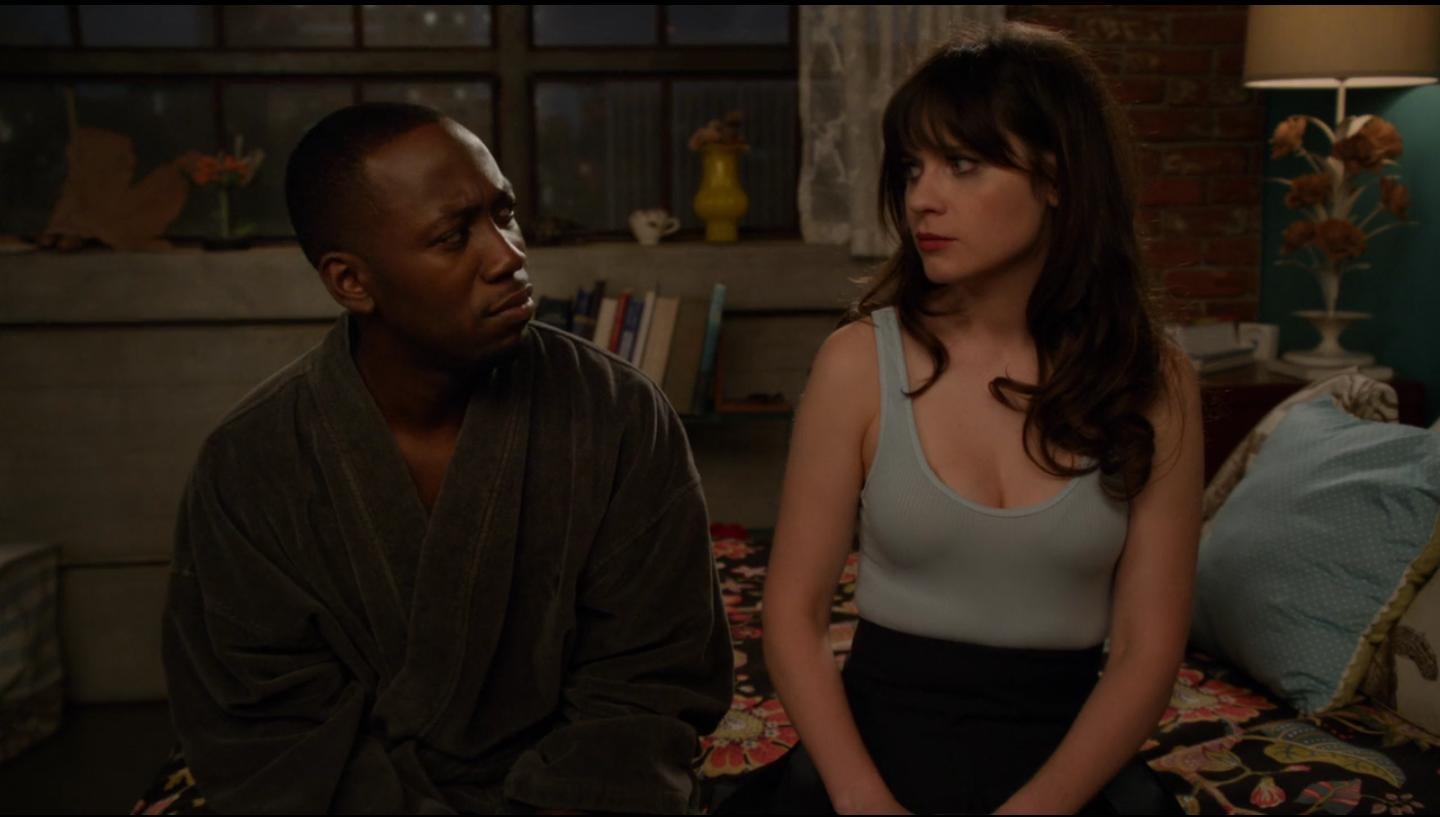person: (144, 96, 733, 814), (753, 25, 1185, 817)
